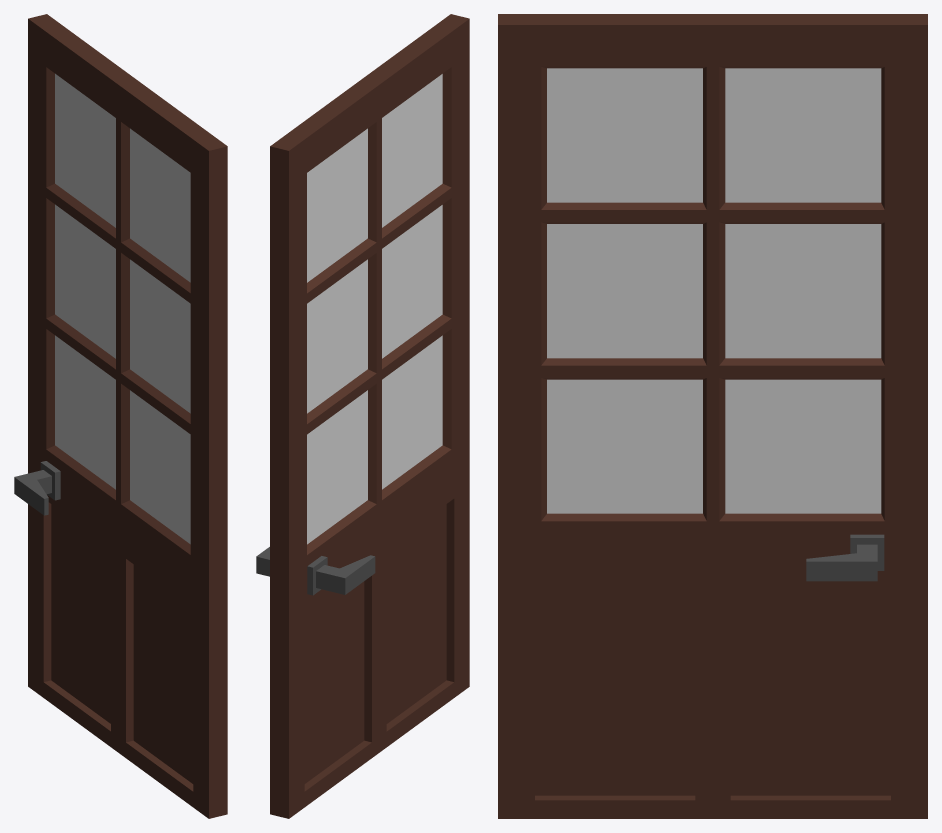
The model's file is door-b.glb.
3 views of the same model, side by side, from view 1: azimuth 30°, elevation 25°; view 2: azimuth 150°, elevation 25°; view 3: azimuth 270°, elevation 25° (orthographic). The views are drawn at different scales.
Visible parts, largest first — view 1: Door B (×3); view 2: Door B (×3); view 3: Door B (×3).
Part boxes in pixels (x1,y1,x2,y2): Door B (×3): (14,14,227,818); Door B (×3): (256,14,469,818); Door B (×3): (498,14,927,818).
Bounding box in the file's own units: 0.2511 × 1.8 × 0.8831.
